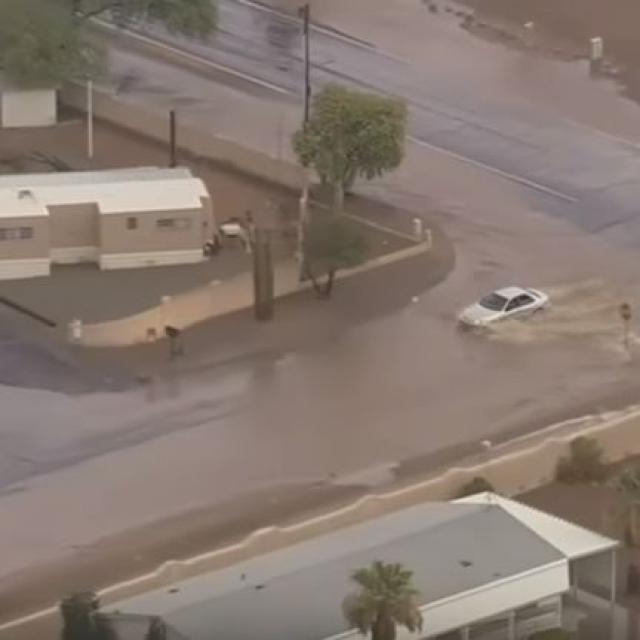flooded_areas: (185, 178, 622, 520)
